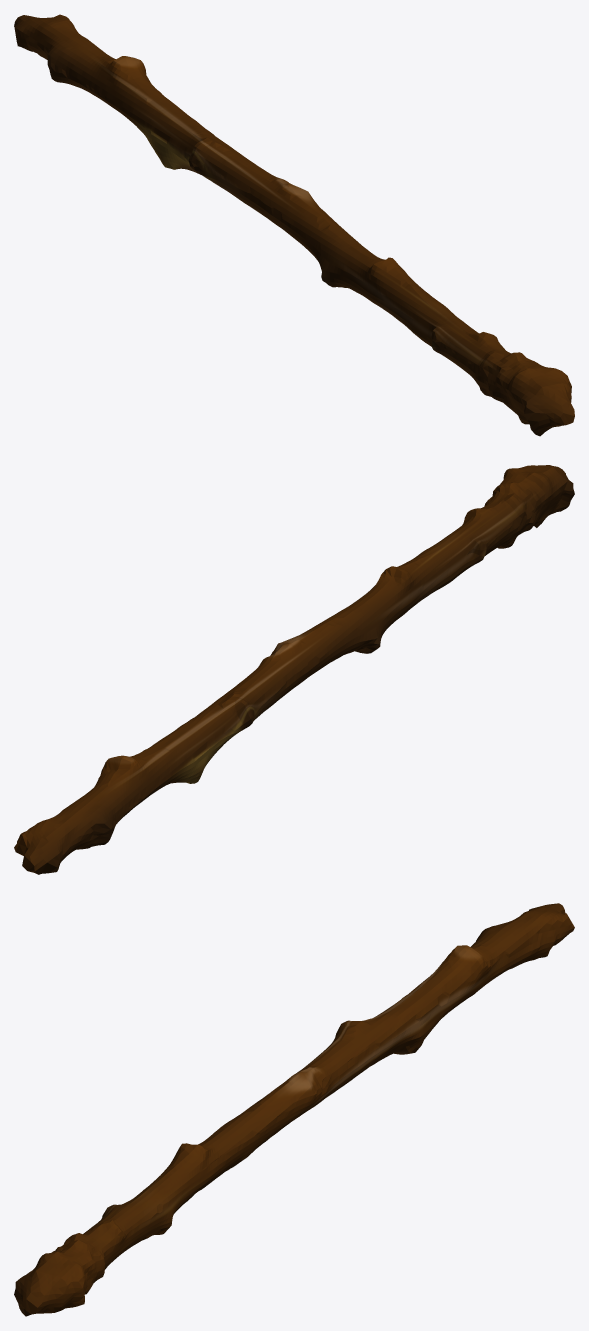
The model's file is wandTex.obj.
3 renders of one model, top to bottom at view 1: azimuth 30°, elevation 25°; view 2: azimuth 150°, elevation 25°; view 3: azimuth 330°, elevation 25°, orthographic.
Visible parts, largest first — view 1: gn_Adria; view 2: gn_Adria; view 3: gn_Adria.
Part boxes in pixels (x1=…): gn_Adria: x1=14, y1=14, x2=574, y2=436; gn_Adria: x1=14, y1=465, x2=574, y2=874; gn_Adria: x1=14, y1=903, x2=574, y2=1316.
Size of the model in its own units: 0.1658 by 0.1656 by 2.45.
1 material, 1 textured.
